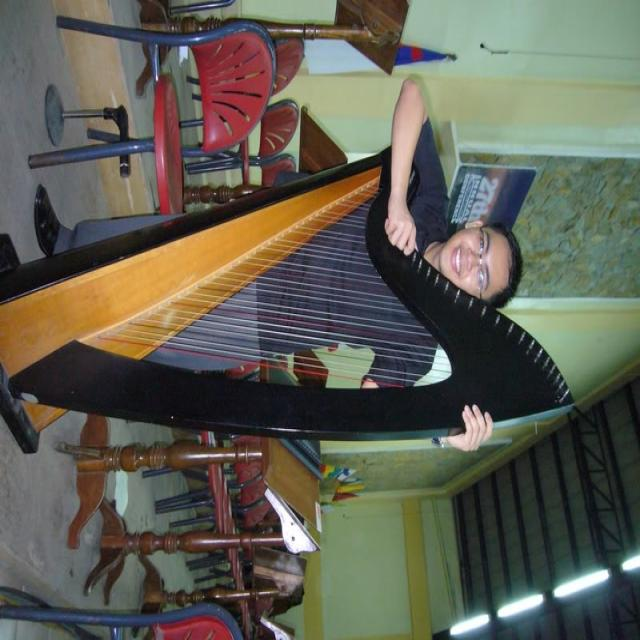harp: (0, 138, 579, 458)
